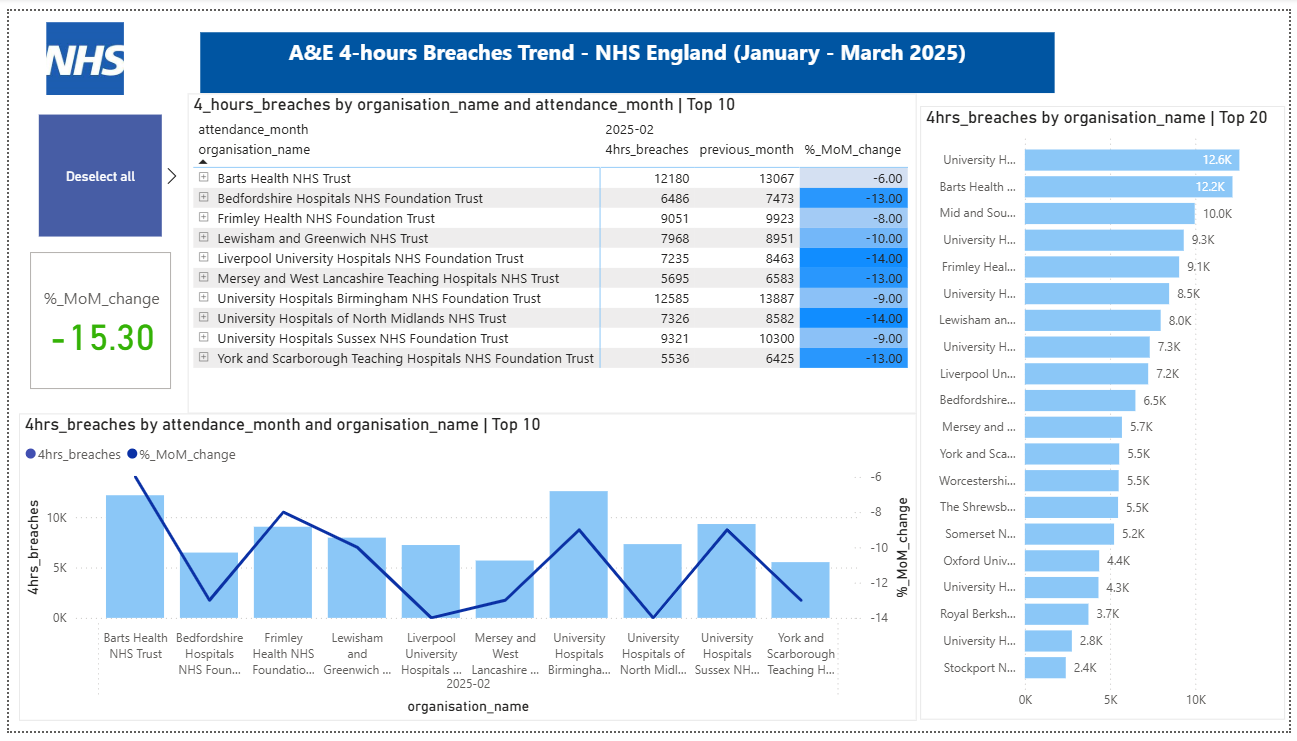

What the dashboard file says about the page in this screenshot:
{"tool":"powerbi","page":{"name":"AE_Attendances","canvas":[1280,720],"ordinal":0},"visuals":[{"type":"textbox","box":[190.8,20.8,854.8,61.1],"z":0},{"type":"image","box":[32.3,0,87.1,95.2],"z":1000},{"type":"clusteredBarChart","title":"4hrs_breaches by organisation_name | Top 20","fields":{"Category":["public ae_4hrs_breaches_analysis.organisation_name"],"Y":["Sum(public ae_4hrs_breaches_analysis.total_4hrs_breaches)"]},"box":[911.3,95.4,364.8,613.6],"z":2000},{"type":"lineClusteredColumnComboChart","title":"4hrs_breaches by attendance_month and organisation_name | Top 10","fields":{"Category":["public ae_4hrs_breaches_analysis.attendance_month","public ae_4hrs_breaches_analysis.organisation_name"],"Y":["Sum(public ae_4hrs_breaches_analysis.total_4hrs_breaches)"],"Y2":["Sum(public ae_4hrs_breaches_analysis.percent_monthly_change)"]},"box":[10.1,402.5,897.4,307.3],"z":3000},{"type":"pivotTable","title":"4_hours_breaches by organisation_name and attendance_month | Top 10","fields":{"Rows":["public ae_4hrs_breaches_analysis.organisation_name","public ae_4hrs_breaches_analysis.regional_name"],"Columns":["public ae_4hrs_breaches_analysis.attendance_month"],"Values":["Sum(public ae_4hrs_breaches_analysis.total_4hrs_breaches)","Sum(public ae_4hrs_breaches_analysis.previous_month_4hrs_breaches)","Sum(public ae_4hrs_breaches_analysis.percent_monthly_change)"]},"box":[178.9,82.2,728.6,320.3],"z":4000},{"type":"cardVisual","fields":{"Data":["Avg(public ae_4hrs_breaches_analysis.percent_monthly_change)"]},"box":[15.9,236.6,151.5,147.2],"z":5000},{"type":"advancedSlicerVisual","fields":{"Values":["public ae_4hrs_breaches_analysis.organisation_name"]},"box":[4.9,99,173.6,132.1],"z":6000}]}

Visuals, with their boxes in screenshot pixels (x1, y1, x2, y2), scaled from the page's 1280x720 canvas onto the 1297x741 screenshot:
textbox: box(193, 21, 1059, 84)
image: box(33, 0, 121, 98)
"4hrs_breaches by organisation_name | Top 20" clusteredBarChart: box(923, 98, 1293, 730)
"4hrs_breaches by attendance_month and organisation_name | Top 10" lineClusteredColumnComboChart: box(10, 414, 920, 731)
"4_hours_breaches by organisation_name and attendance_month | Top 10" pivotTable: box(181, 85, 920, 414)
cardVisual - Avg(public ae_4hrs_breaches_analysis.percent_monthly_change): box(16, 244, 170, 395)
advancedSlicerVisual - public ae_4hrs_breaches_analysis.organisation_name: box(5, 102, 181, 238)
